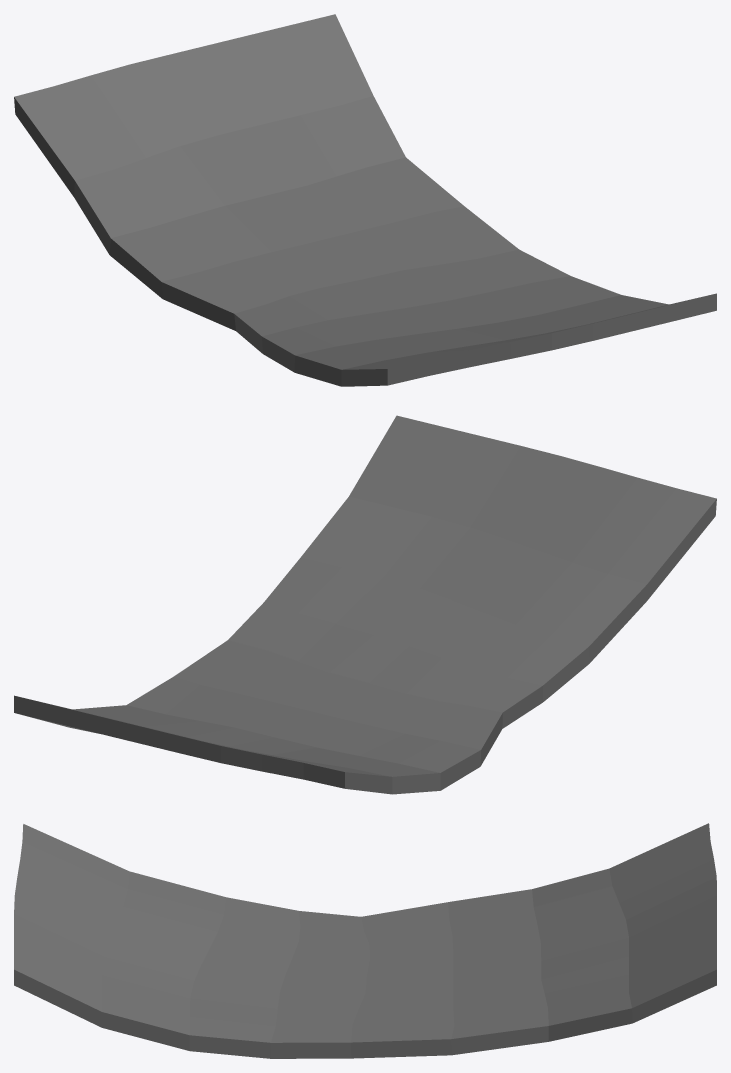
Rendered from metal_sheet_01.fbx.
3 renders of one model, top to bottom at view 1: azimuth 30°, elevation 25°; view 2: azimuth 150°, elevation 25°; view 3: azimuth 270°, elevation 25°, orthographic. The views are drawn at different scales.
Visible parts, largest first — view 1: metal_sheet_01; view 2: metal_sheet_01; view 3: metal_sheet_01.
Part boxes in pixels (bbox=[...]): metal_sheet_01: bbox=[14, 14, 716, 386]; metal_sheet_01: bbox=[14, 415, 716, 794]; metal_sheet_01: bbox=[14, 823, 716, 1058].
Size of the model in its own units: 197 by 60 by 400.
